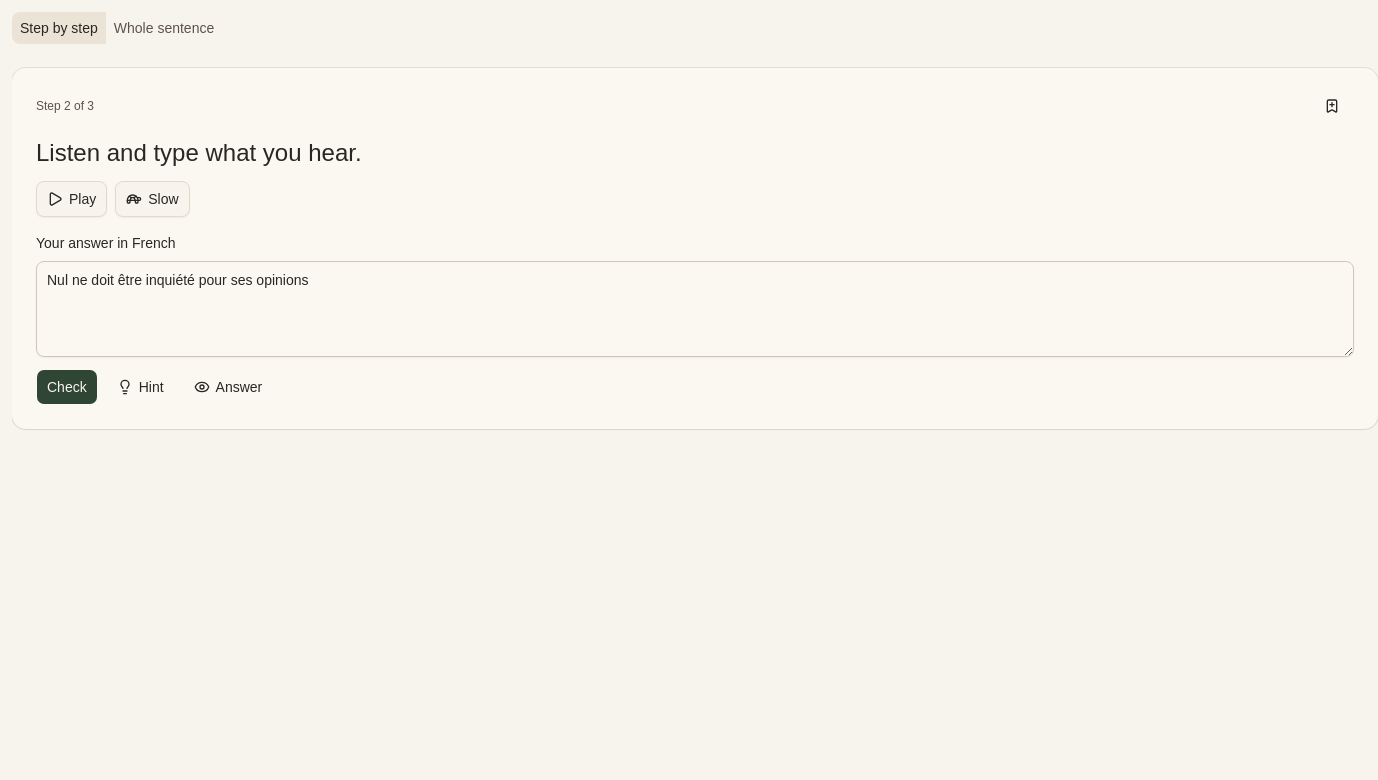
Scenario: Dictation perfect revealed answer › step scope › celebrates and preserves answer-known scoring (last=false)
Click the button "Answer": (228, 387) [183,369,273,405]
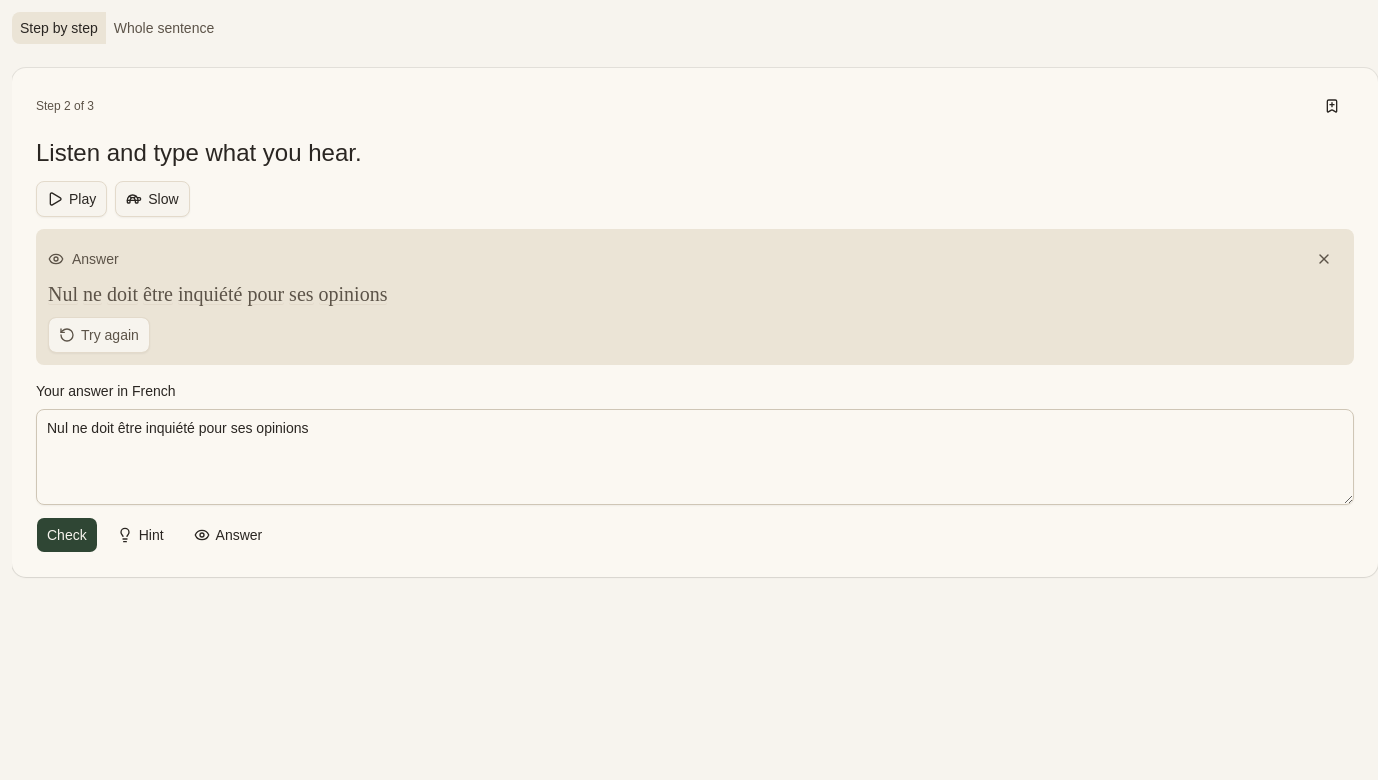
Click the button named "Hide answer": (1324, 259) [1306,241,1342,277]
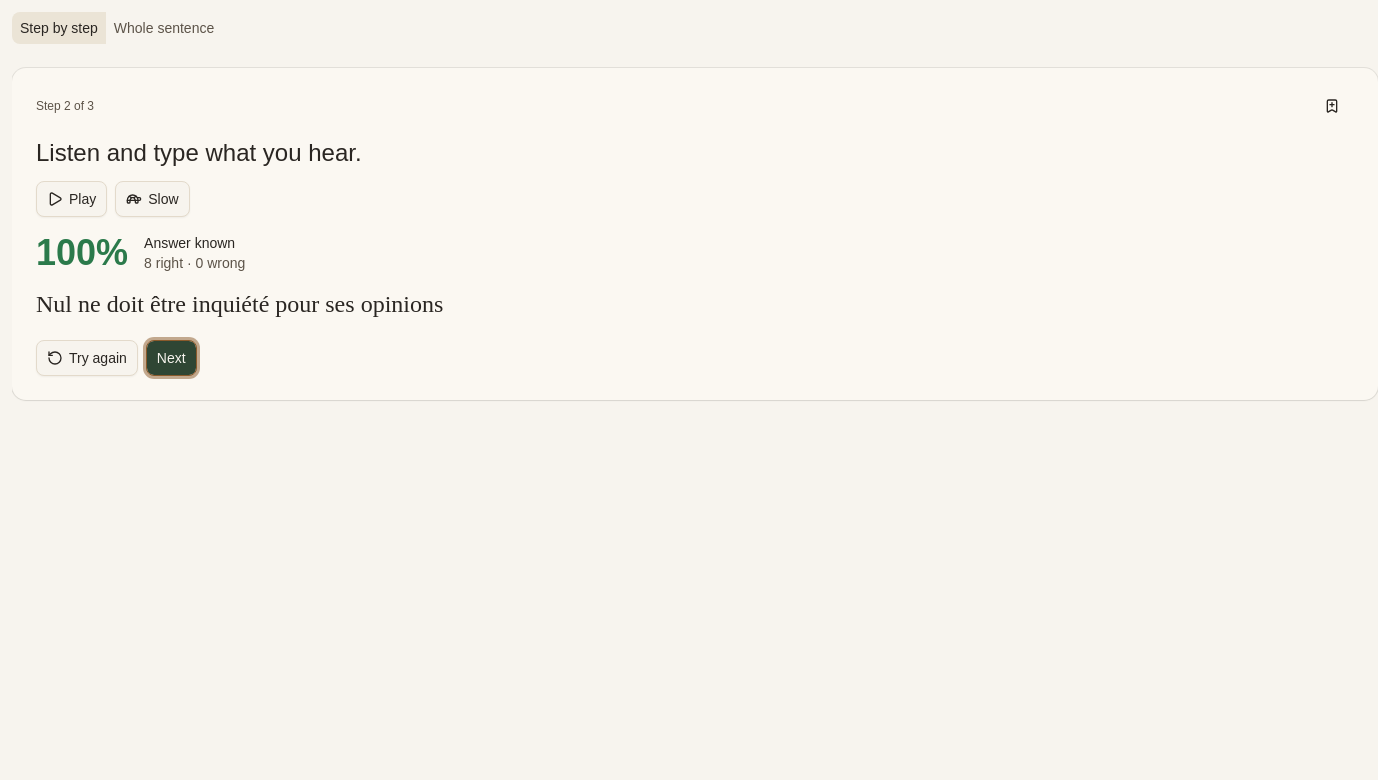
Now the text "Nul" is shown, box [36,285,72,324]
Now the text "Answer known" is shown, box [144,233,245,253]
Now the button "Next" is shown, box [146,340,197,376]
